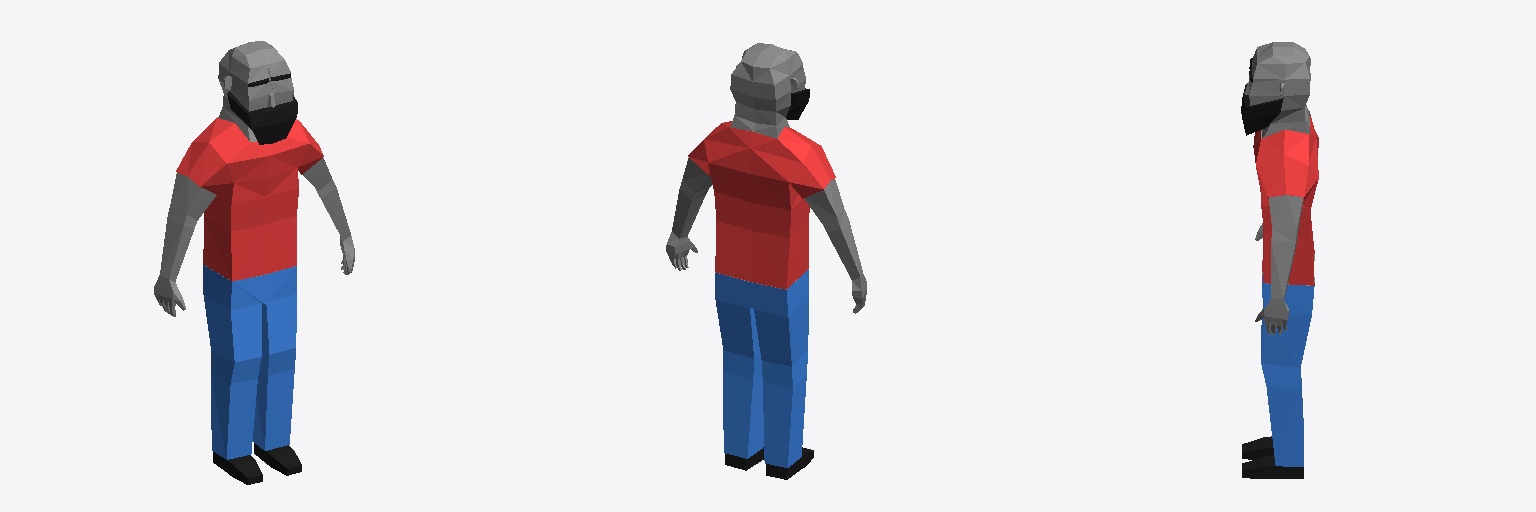
The picture shows the model from 3 angles: view 1: azimuth 30°, elevation 25°; view 2: azimuth 150°, elevation 25°; view 3: azimuth 270°, elevation 25°; orthographic projection.
Parts seen in each view (by area): view 1: Cube; view 2: Cube; view 3: Cube.
Boxes of the visible parts, x1,y1,x2,y2 form: Cube: [154, 41, 354, 484]; Cube: [666, 43, 866, 479]; Cube: [1241, 42, 1318, 478].
Size of the model in its own units: 1.68 by 3.42 by 0.5788.
6 materials, 3 textured.